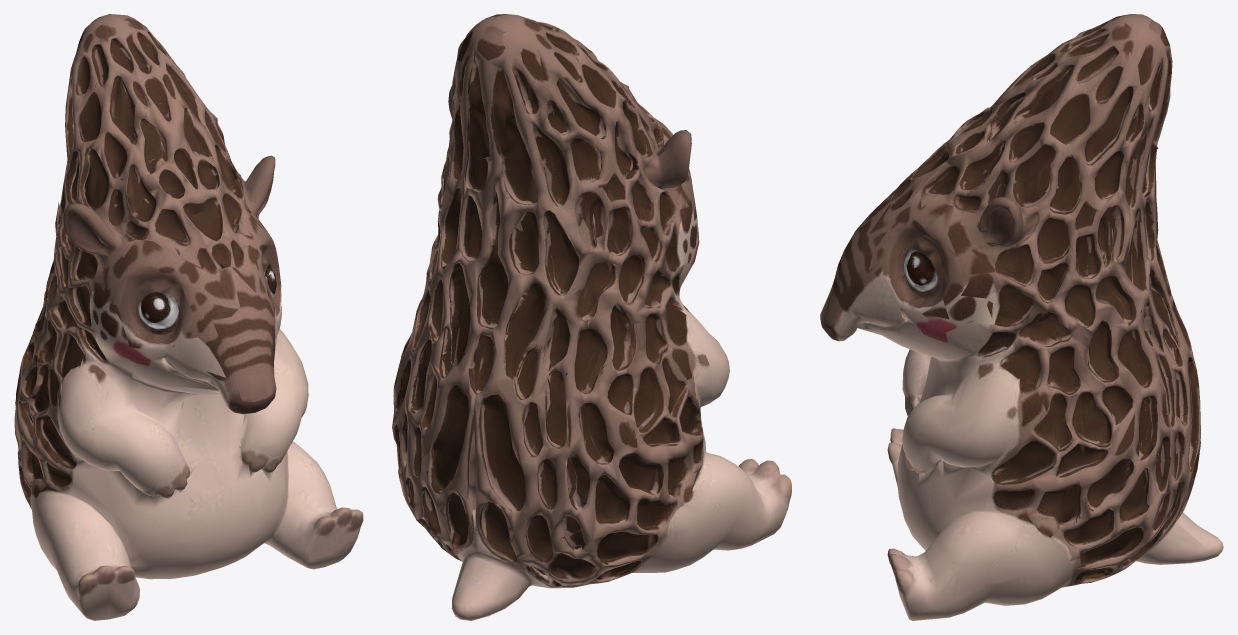
3 views of the same model, side by side, from view 1: azimuth 30°, elevation 25°; view 2: azimuth 150°, elevation 25°; view 3: azimuth 270°, elevation 25° (orthographic). The views are drawn at different scales.
Visible parts, largest first — view 1: Mesh_0; view 2: Mesh_0; view 3: Mesh_0.
Boxes of the visible parts, x1=… form: Mesh_0: x1=14, y1=14, x2=363, y2=620; Mesh_0: x1=392, y1=14, x2=791, y2=620; Mesh_0: x1=820, y1=14, x2=1223, y2=620.
Size of the model in its own units: 1.13 by 1.9 by 1.29.
1 material, 1 textured.
